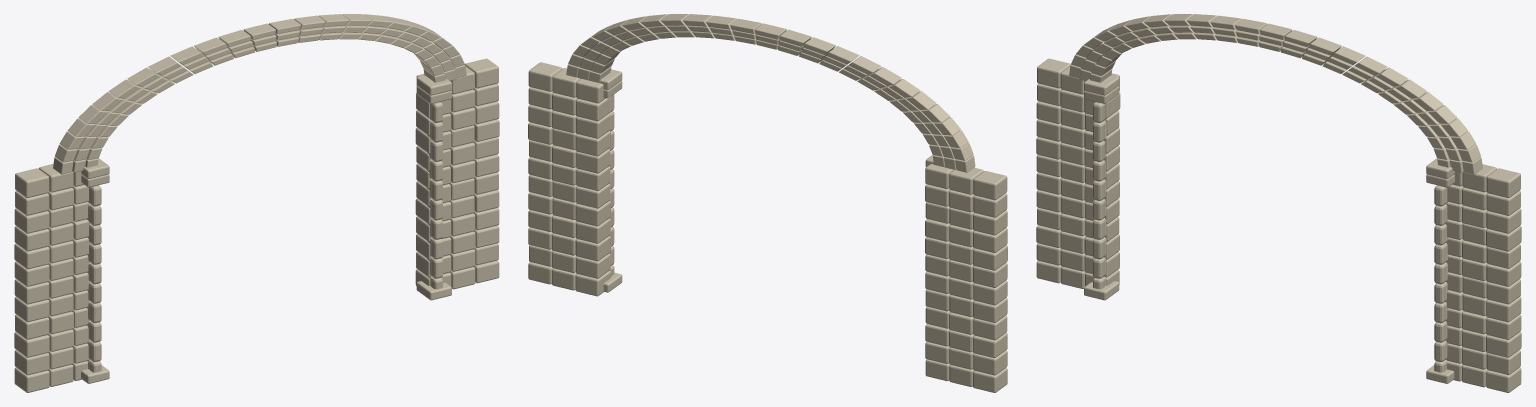
Rendered from castle-arch.glb.
The picture shows the model from 3 angles, left to right: view 1: azimuth 30°, elevation 25°; view 2: azimuth 150°, elevation 25°; view 3: azimuth 330°, elevation 25°; orthographic projection.
Visible parts, largest first — view 1: Dressed pier stone.035, Dressed pier stone.071, Dressed pier stone.008, Dressed pier stone.023, Dressed pier stone.029, Dressed pier stone.002, Dressed pier stone.026, Dressed pier stone.014, Dressed pier stone.017, Dressed pier stone.005, Dressed pier stone.020, Dressed pier stone.032 (+43 smaller); view 2: Dressed pier stone.035, Dressed pier stone.071, Dressed pier stone.048, Dressed pier stone.060, Dressed pier stone.042, Dressed pier stone.008, Dressed pier stone.029, Dressed pier stone.066, Dressed pier stone.023, Dressed pier stone.051, Dressed pier stone.002, Dressed pier stone.014 (+58 smaller); view 3: Dressed pier stone.071, Dressed pier stone.035, Dressed pier stone.062, Dressed pier stone.038, Dressed pier stone.056, Dressed pier stone.065, Dressed pier stone.050, Dressed pier stone.044, Dressed pier stone.047, Dressed pier stone.053, Dressed pier stone.068, Dressed pier stone.059 (+43 smaller).
Boxes of the visible parts, bbox=[...] form: Dressed pier stone.035: bbox=[15, 168, 49, 197]; Dressed pier stone.071: bbox=[465, 58, 498, 88]; Dressed pier stone.008: bbox=[14, 332, 49, 357]; Dressed pier stone.023: bbox=[14, 243, 49, 269]; Dressed pier stone.029: bbox=[14, 208, 49, 233]; Dressed pier stone.002: bbox=[14, 367, 49, 392]; Dressed pier stone.026: bbox=[14, 226, 49, 251]; Dressed pier stone.014: bbox=[14, 297, 49, 322]; Dressed pier stone.017: bbox=[14, 279, 49, 304]; Dressed pier stone.005: bbox=[14, 350, 49, 375]; Dressed pier stone.020: bbox=[14, 261, 49, 286]; Dressed pier stone.032: bbox=[15, 191, 49, 215]; Dressed pier stone.035: bbox=[973, 171, 1007, 200]; Dressed pier stone.071: bbox=[528, 62, 562, 91]; Dressed pier stone.048: bbox=[575, 201, 610, 226]; Dressed pier stone.060: bbox=[575, 131, 610, 156]; Dressed pier stone.042: bbox=[575, 236, 610, 261]; Dressed pier stone.008: bbox=[973, 332, 1007, 357]; Dressed pier stone.029: bbox=[973, 210, 1007, 235]; Dressed pier stone.066: bbox=[576, 97, 610, 121]; Dressed pier stone.023: bbox=[973, 245, 1007, 270]; Dressed pier stone.051: bbox=[576, 183, 610, 208]; Dressed pier stone.002: bbox=[973, 368, 1007, 392]; Dressed pier stone.014: bbox=[973, 298, 1007, 322]; Dressed pier stone.071: bbox=[1486, 168, 1520, 197]; Dressed pier stone.035: bbox=[1037, 58, 1070, 88]; Dressed pier stone.062: bbox=[1486, 226, 1521, 251]; Dressed pier stone.038: bbox=[1486, 367, 1521, 392]; Dressed pier stone.056: bbox=[1486, 261, 1521, 286]; Dressed pier stone.065: bbox=[1486, 208, 1521, 233]; Dressed pier stone.050: bbox=[1486, 297, 1521, 322]; Dressed pier stone.044: bbox=[1486, 332, 1521, 357]; Dressed pier stone.047: bbox=[1486, 314, 1521, 339]; Dressed pier stone.053: bbox=[1486, 279, 1520, 304]; Dressed pier stone.068: bbox=[1486, 191, 1520, 215]; Dressed pier stone.059: bbox=[1486, 244, 1520, 268].
Size of the model in its own units: 11.19 by 6.88 by 0.835.
